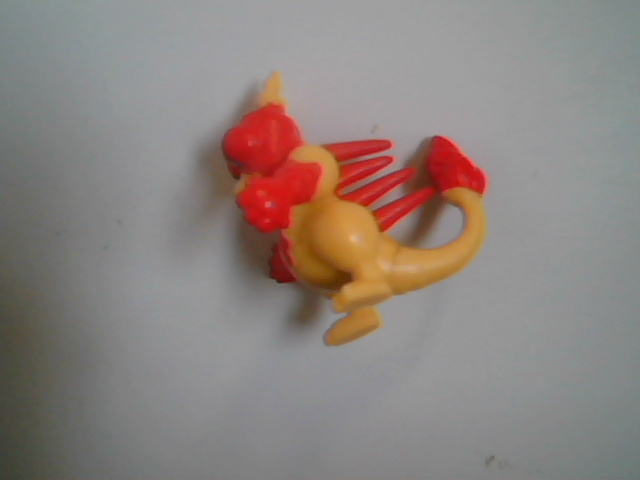magmar: (156, 43, 529, 411)
